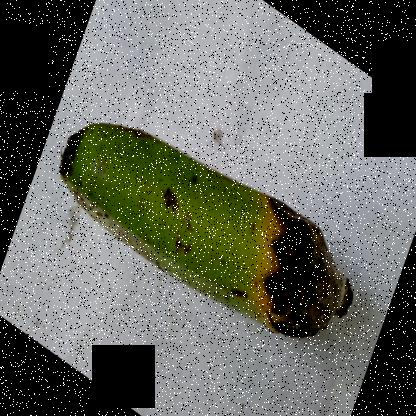rotten: (245, 166, 365, 366), (35, 87, 108, 187)
